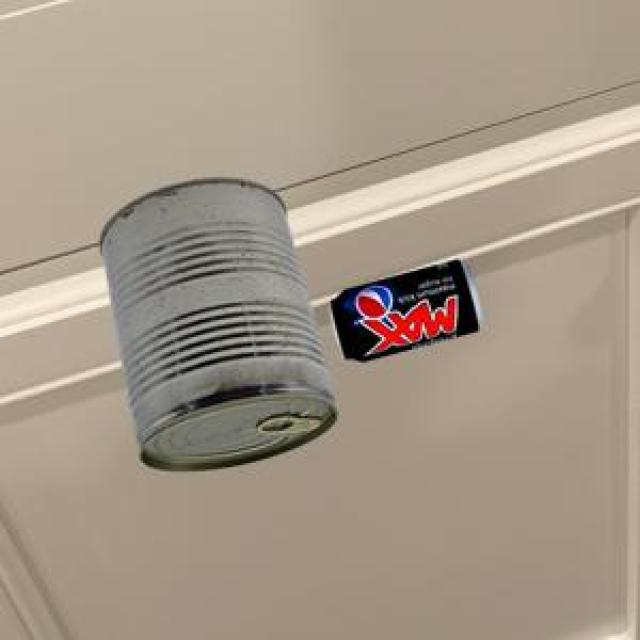logam: (97, 176, 334, 468), (329, 257, 479, 357)
